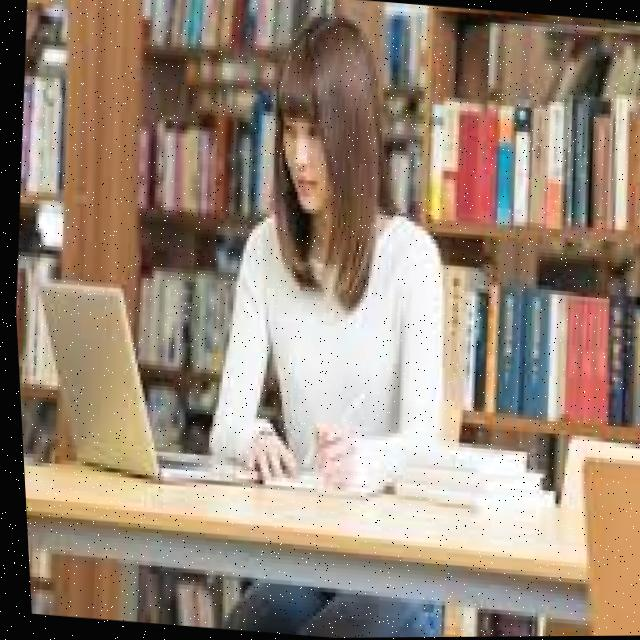studying-person: (174, 0, 603, 540)
